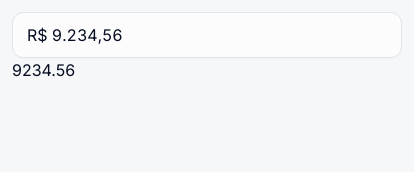
Test: monetary fields › keeps the caret at a deleted separator instead of jumping to the end
Replace the text in the field named "Valor" with "R$ 9234,56" at (207, 35), box [12, 12, 402, 58]
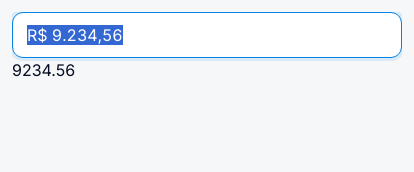
Replace the text in the field named "Valor" with "R$ .234,56" at (207, 35), box [12, 12, 402, 58]
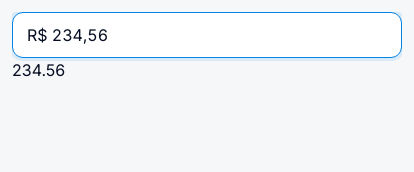
Result: the field named "Valor" holds "R$ 234,56" at [12, 12, 402, 58]
